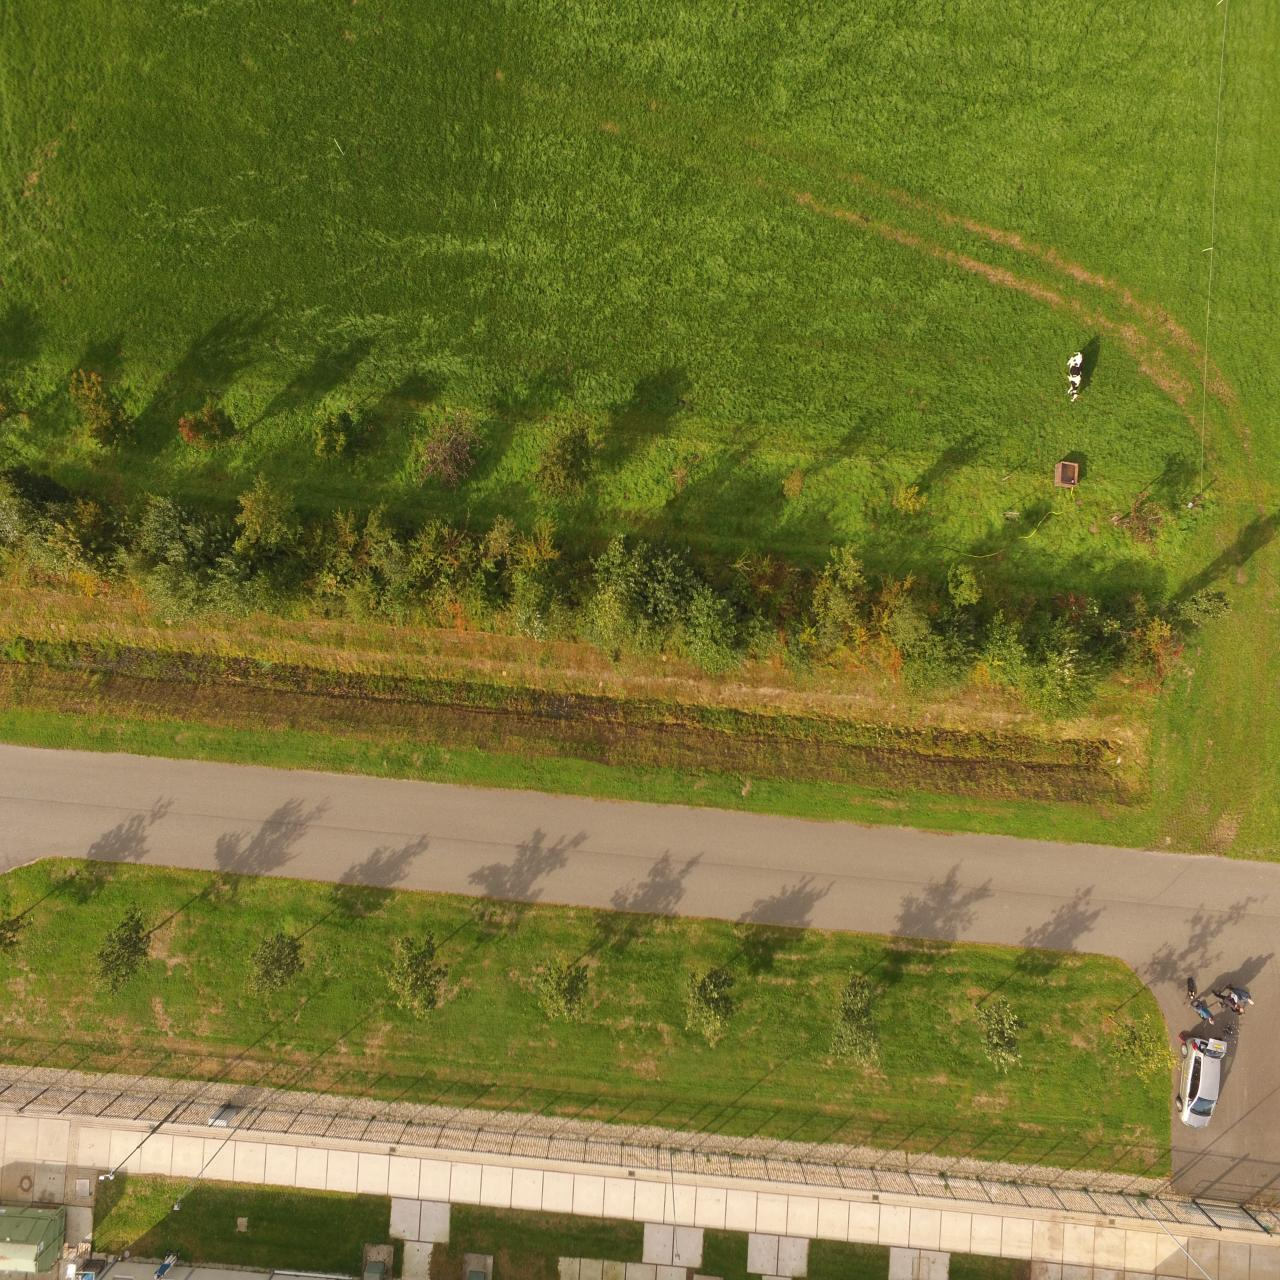cow: (1061, 342, 1088, 402)
